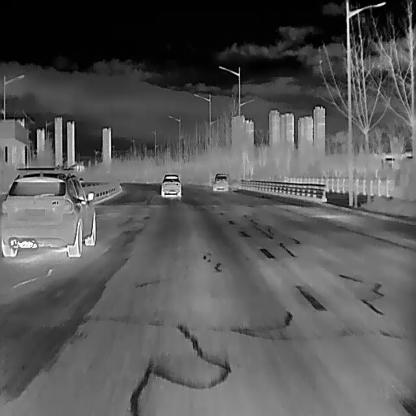car: (0, 171, 96, 256), (160, 173, 180, 197), (212, 171, 228, 191)
